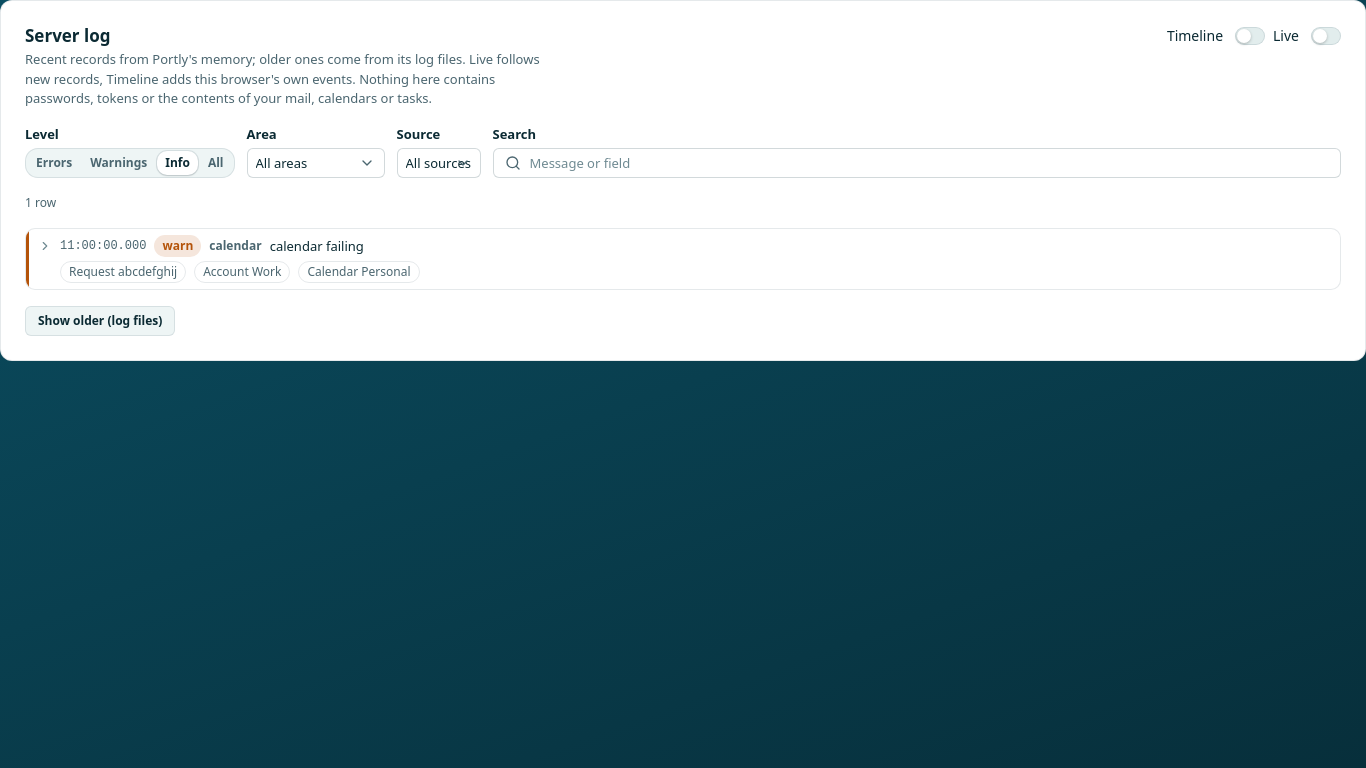
Scenario: ServerLogPanel › expands a row to its fields
This screenshot has width=1366, height=768.
Click the button "calendar failing": (103, 246) [38, 235, 1328, 257]
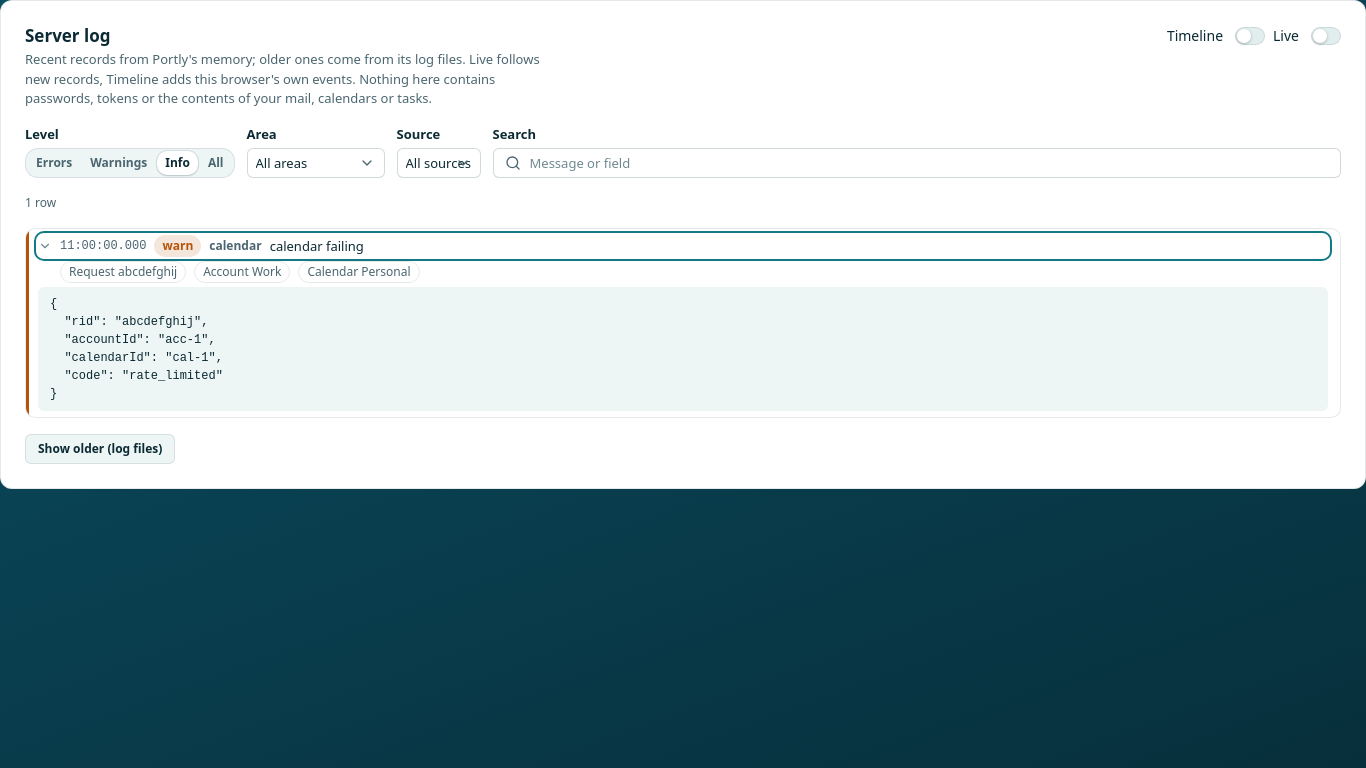
Expected: the button "calendar failing" is expanded, [38, 235, 1328, 257]
